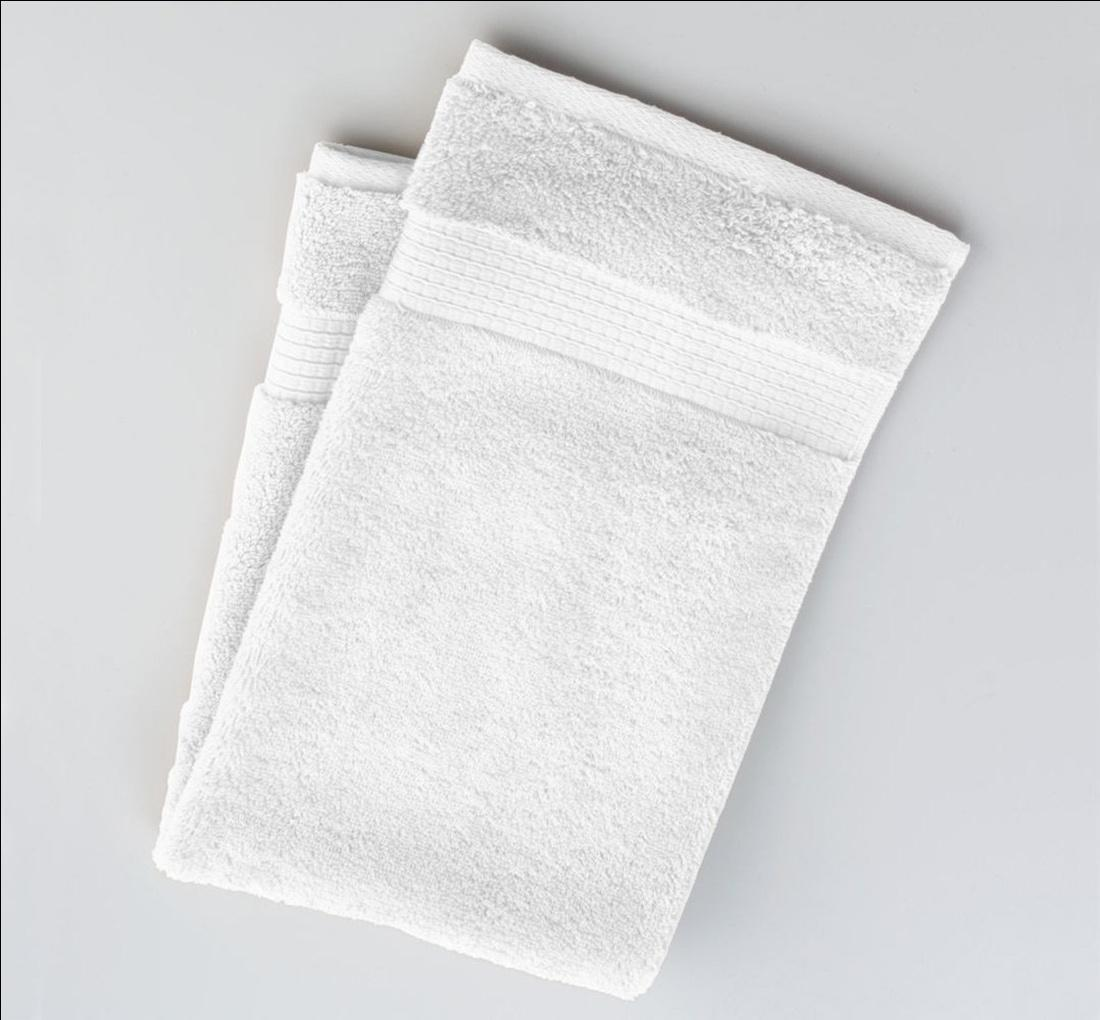towel: (153, 0, 953, 1015)
